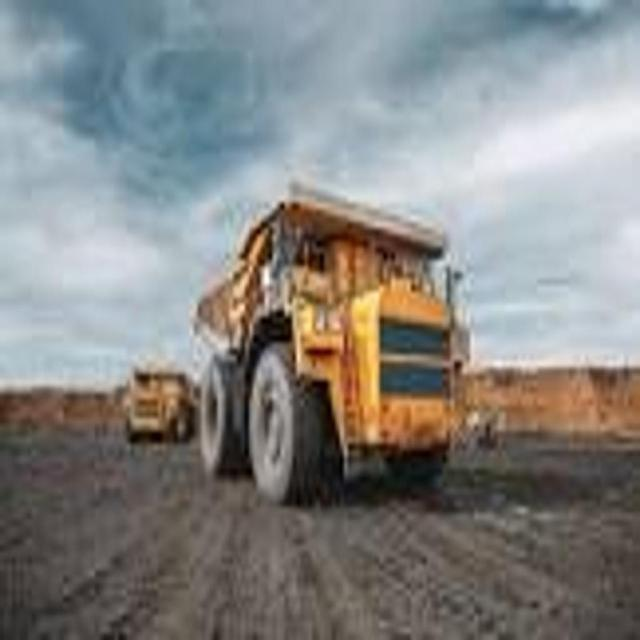dump_truck: (191, 177, 471, 528), (110, 352, 198, 452)
